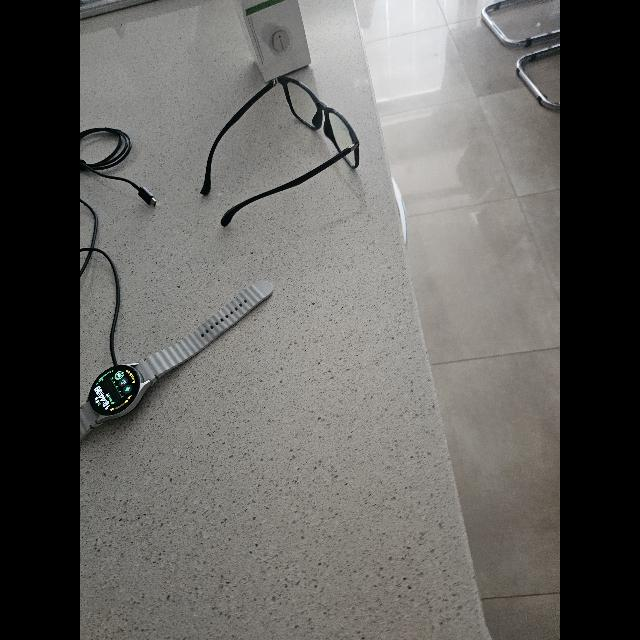glasses: (200, 76, 360, 226)
